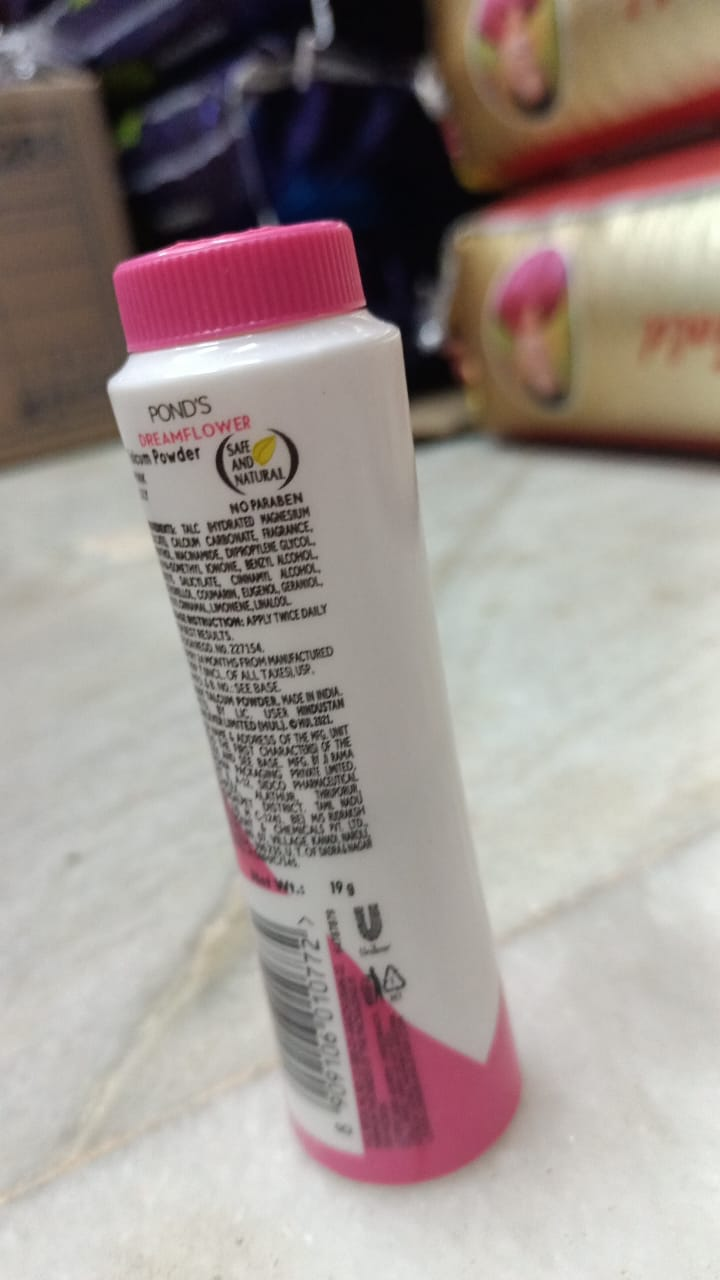ponds face powder: (81, 258, 592, 1182)
